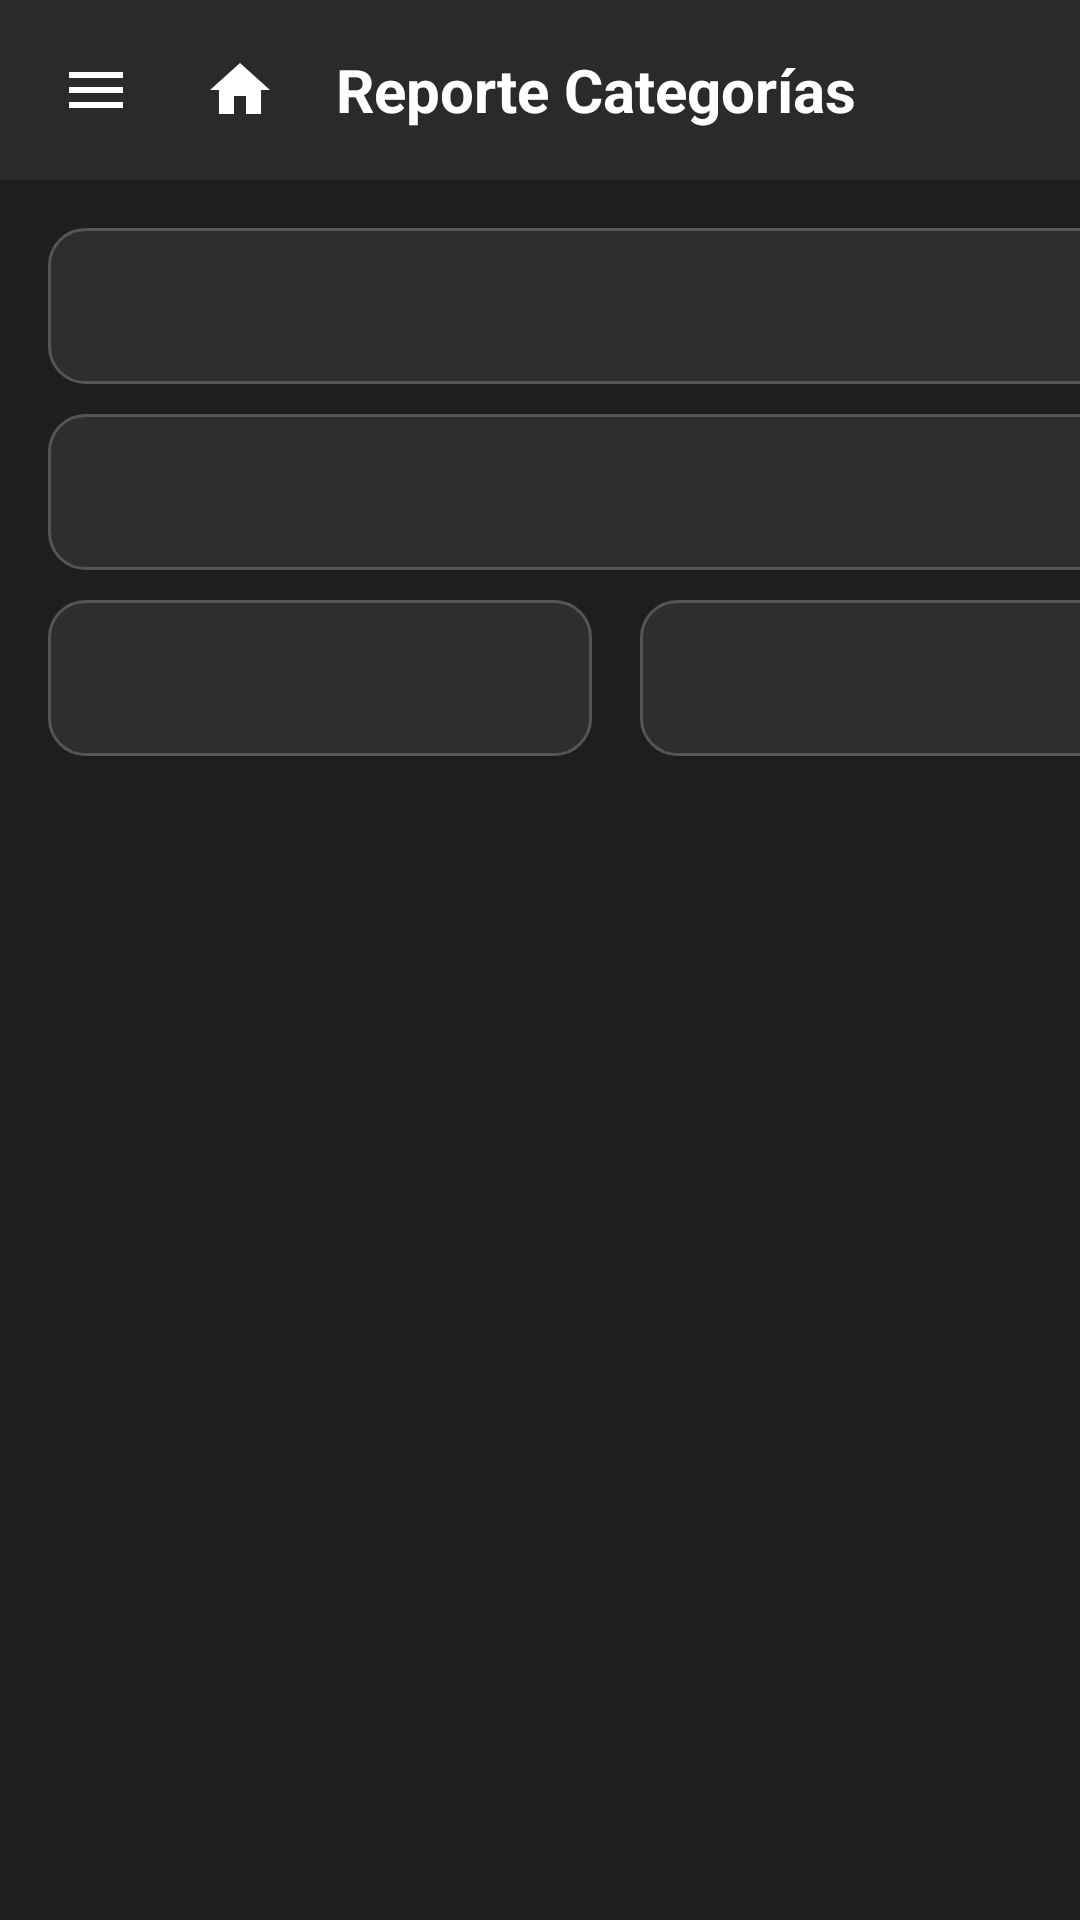

Locate icon controls on the screen. Image size 1080*1920, boxes as (x1=x1, y1=y1, x2=x2, y2=y2).
Menú: (x1=69, y1=72, x2=123, y2=108)
